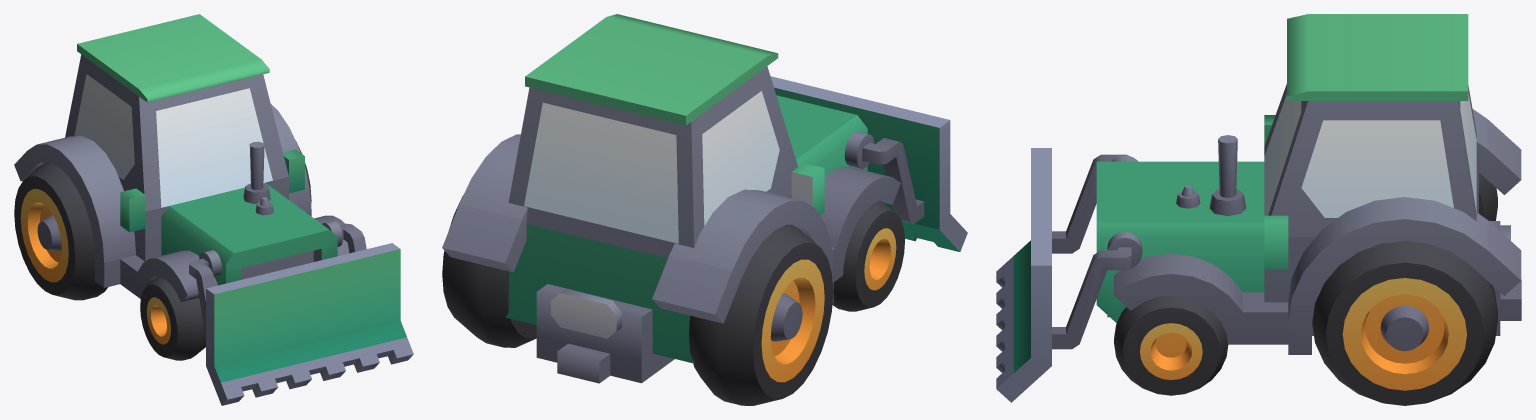
The model's file is tractor_shovel.glb.
3 renders of one model, left to right at view 1: azimuth 30°, elevation 25°; view 2: azimuth 150°, elevation 25°; view 3: azimuth 270°, elevation 25°, orthographic. The views are drawn at different scales.
Parts seen in each view (by area): view 1: body, shovel, wheel-back-right, wheel-front-right; view 2: body, wheel-back-right, shovel, wheel-front-right, wheel-back-left; view 3: body, wheel-back-left, shovel, wheel-front-left, wheel-back-right.
Boxes of the visible parts, <box> form: body: <box>14,14,349,302</box>; shovel: <box>189,220,413,405</box>; wheel-back-right: <box>14,162,108,300</box>; wheel-front-right: <box>140,276,205,360</box>; body: <box>442,14,900,383</box>; wheel-back-right: <box>689,224,833,405</box>; shovel: <box>770,76,967,251</box>; wheel-front-right: <box>832,200,904,311</box>; wheel-back-left: <box>442,195,536,347</box>; body: <box>1096,14,1521,354</box>; wheel-back-left: <box>1312,241,1497,405</box>; shovel: <box>996,148,1142,402</box>; wheel-front-left: <box>1114,295,1228,395</box>; wheel-back-right: <box>1479,172,1497,220</box>.
Size of the model in its own units: 1.66 by 1.51 by 2.47.
Materials: 1 (1 with a texture image).
